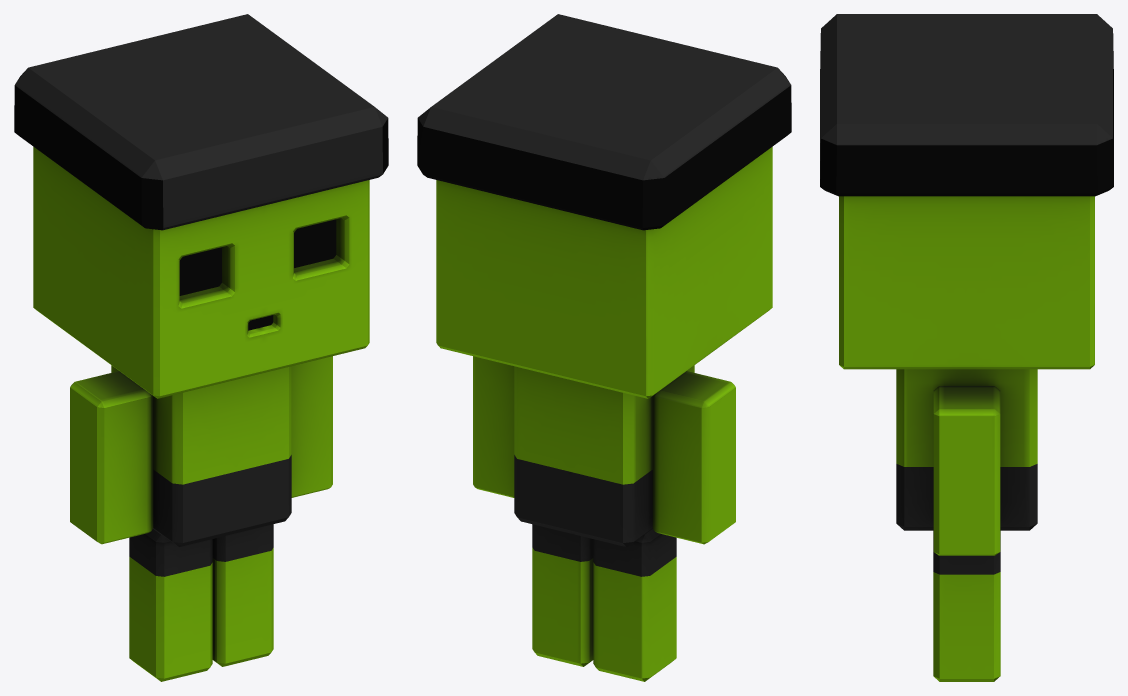
Rendered from Bulk.FBX.
3 views of the same model, side by side, from view 1: azimuth 30°, elevation 25°; view 2: azimuth 150°, elevation 25°; view 3: azimuth 270°, elevation 25° (orthographic). The views are drawn at different scales.
Visible parts, largest first — view 1: Box80; view 2: Box80; view 3: Box80.
Boxes of the visible parts, x1,y1,x2,y2 form: Box80: (14, 14, 388, 681); Box80: (417, 14, 791, 681); Box80: (820, 14, 1113, 681).
Size of the model in its own units: 5.7 by 12.62 by 5.74.
Materials: 1 (1 with a texture image).
